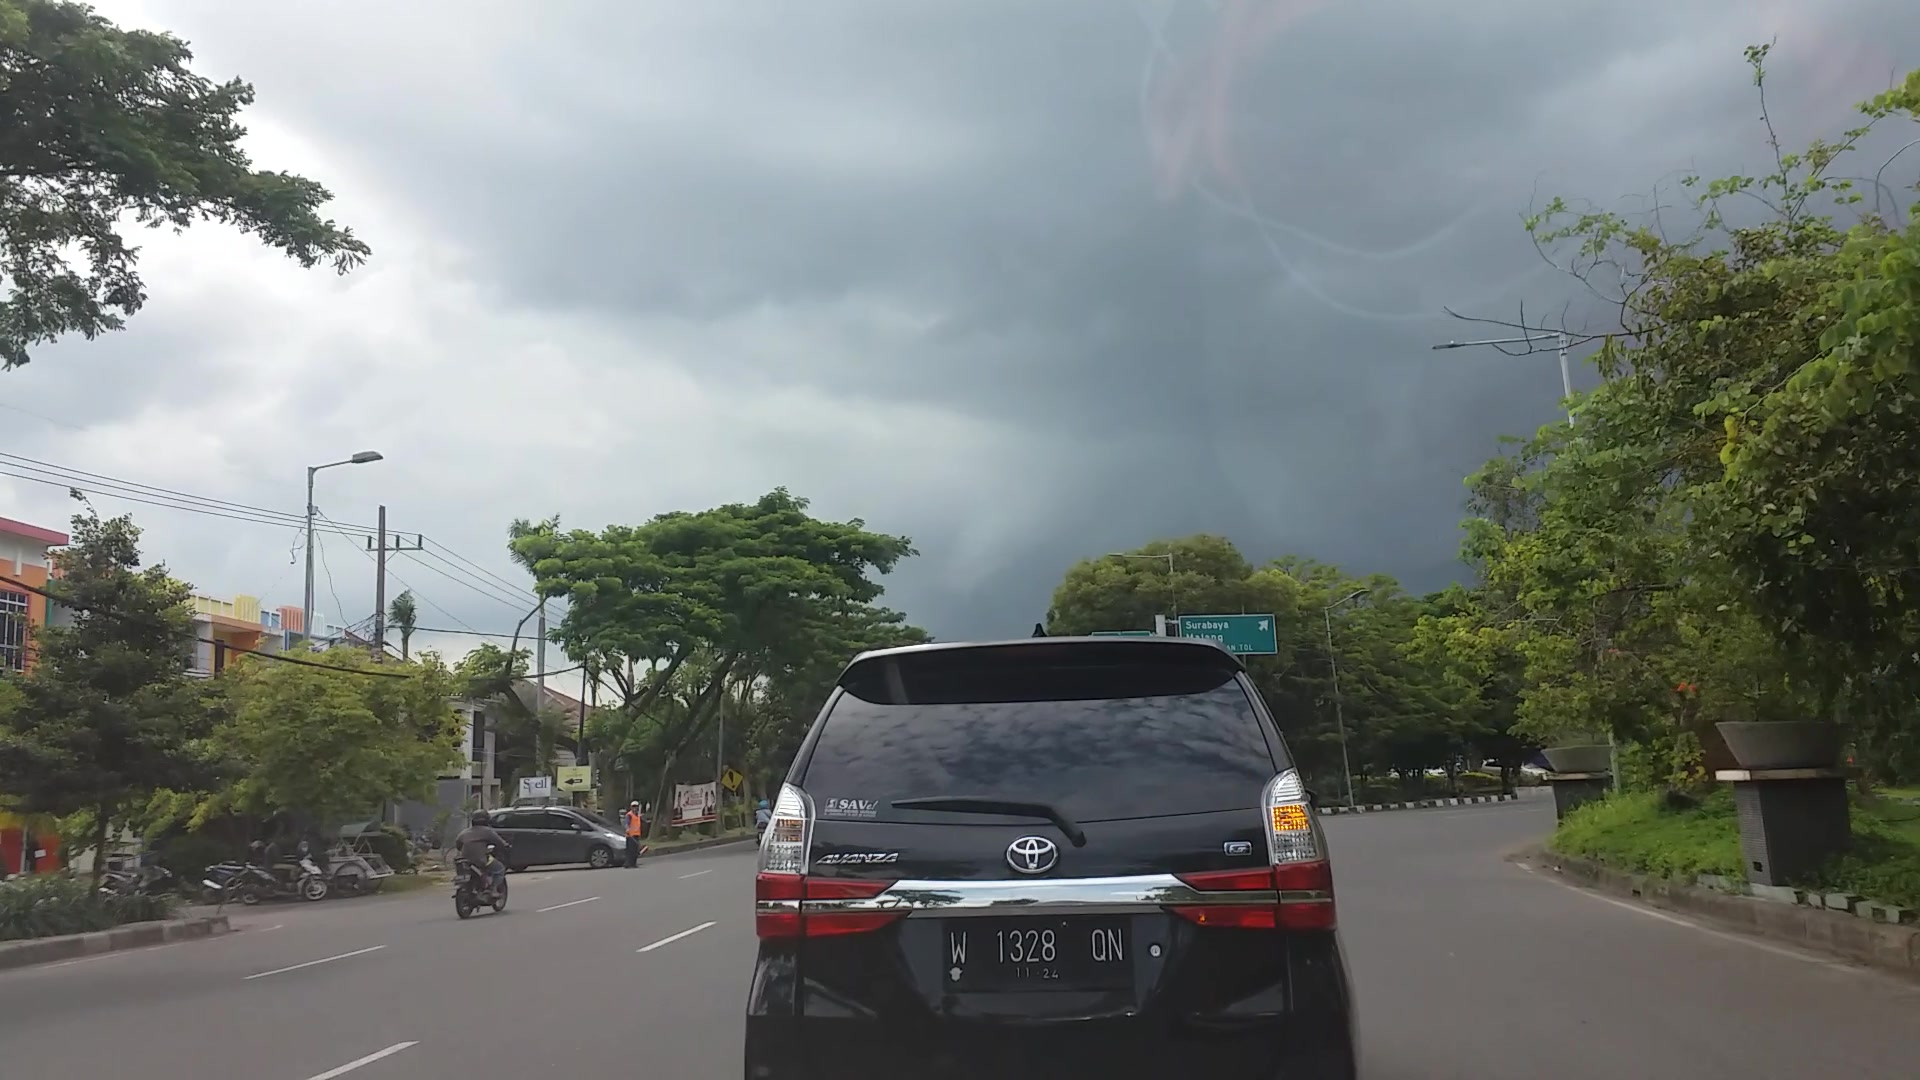plate_positive: (944, 916, 1135, 992)
